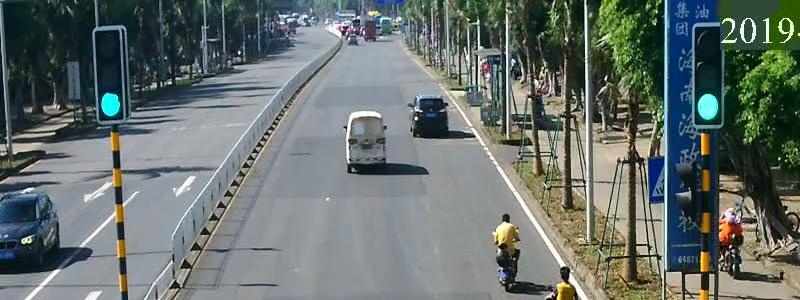green: (88, 87, 132, 126), (695, 87, 727, 136)
